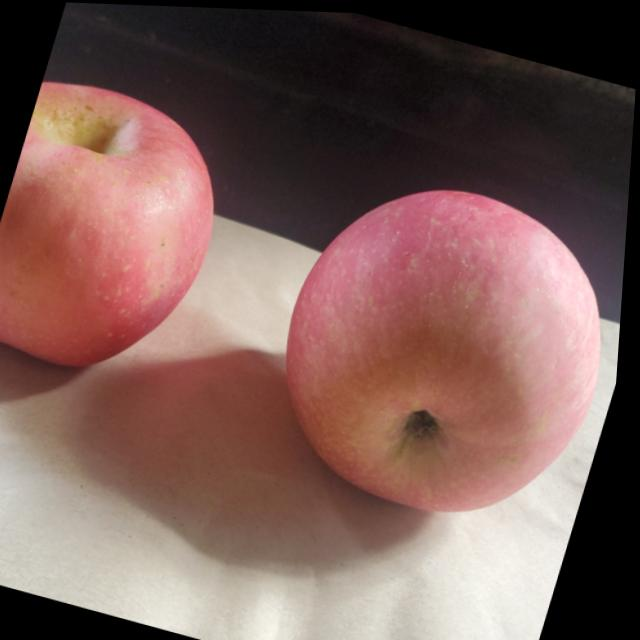apple: (249, 151, 633, 543), (0, 72, 243, 394)
